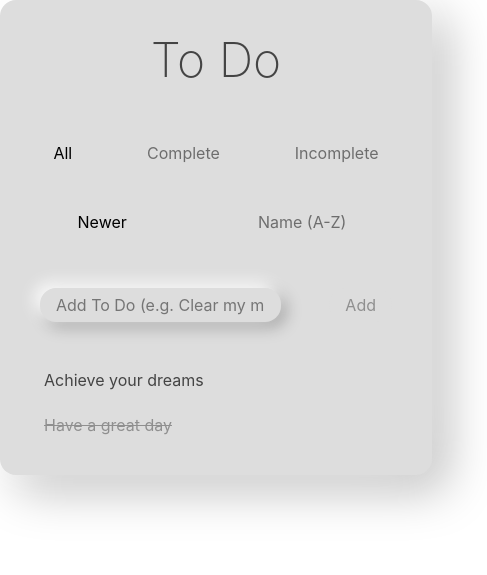
Test case: adds a todo when the form is submitted
The width and height of the screenshot is (487, 575).
Type "Test To Do addition" into the field named "To Do Name Input" at {"x": 161, "y": 305}, box [40,288,281,322]
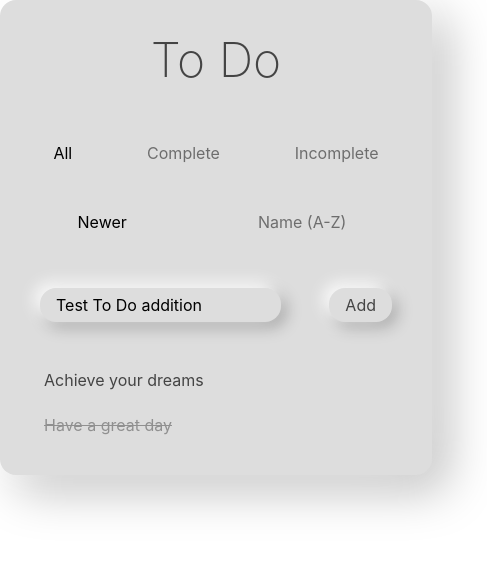
Submit the form from the field named "To Do Name Input", box [40,288,281,322]
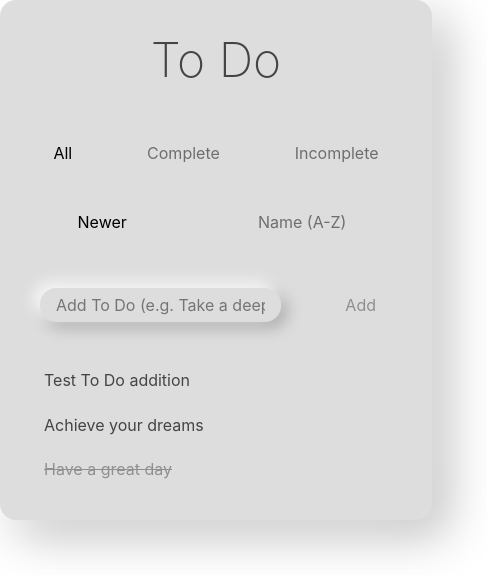
Expected: the number of elements titled "To Do" is 3, [31,370,190,418]; [31,415,204,462]; [31,459,172,504]
